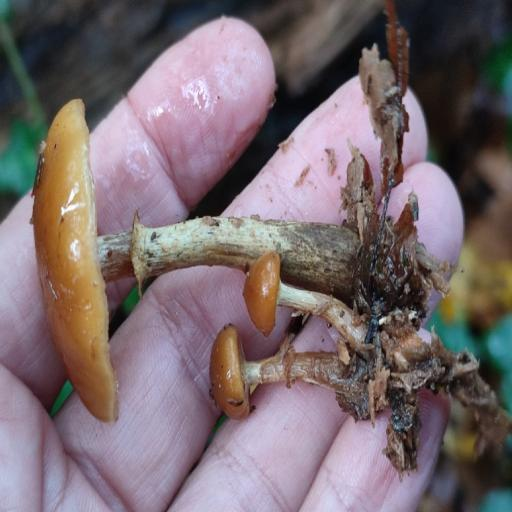mushroom: (32, 45, 355, 440)
